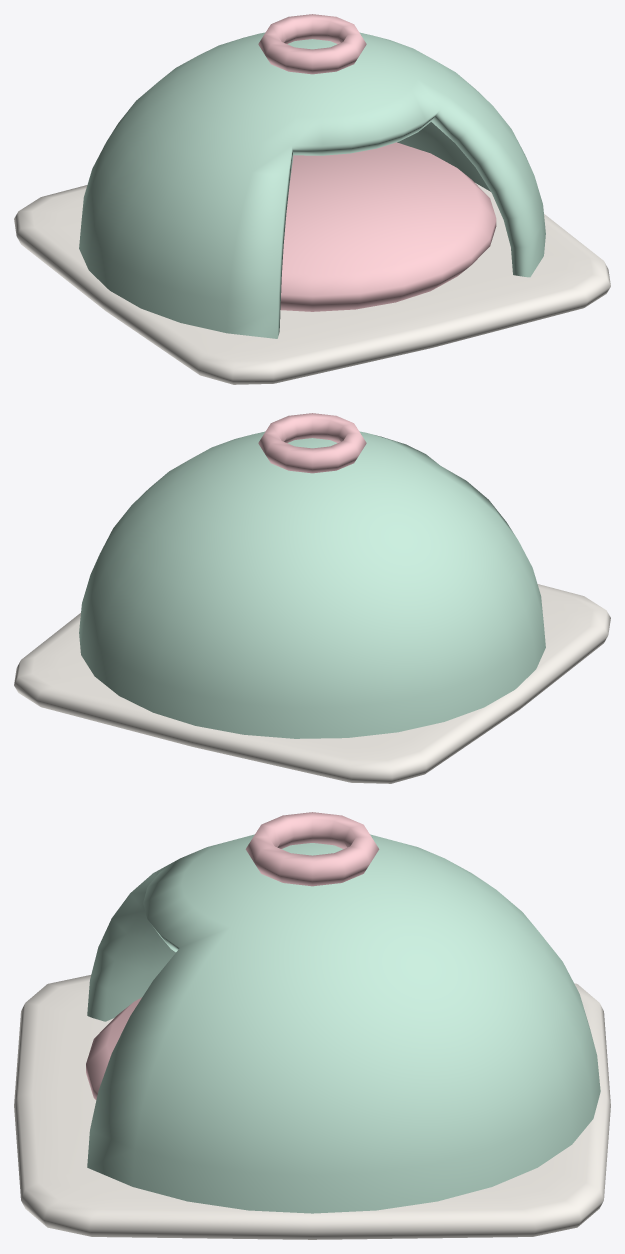
The model's file is companion-animals-and-pet-home-cave-bed-b13a64b5__20629.glb.
3 renders of one model, top to bottom at view 1: azimuth 30°, elevation 25°; view 2: azimuth 150°, elevation 25°; view 3: azimuth 270°, elevation 25°, orthographic. The views are drawn at different scales.
Visible parts, largest first — view 1: cave-bed; view 2: cave-bed; view 3: cave-bed.
Part boxes in pixels (x1,y1,x2,y2): cave-bed: (14,14,610,384); cave-bed: (14,413,610,783); cave-bed: (14,812,610,1239).
Size of the model in its own units: 0.58 by 0.303 by 0.58.
